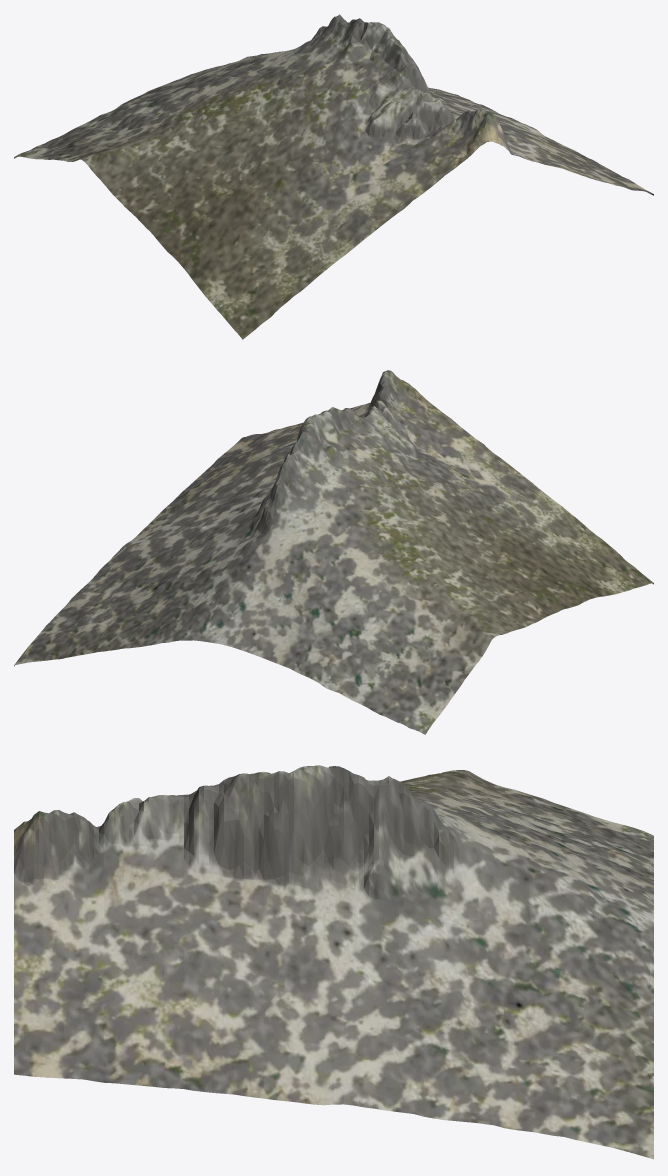
3 renders of one model, top to bottom at view 1: azimuth 30°, elevation 25°; view 2: azimuth 150°, elevation 25°; view 3: azimuth 270°, elevation 25°, orthographic. The views are drawn at different scales.
Size of the model in its own units: 250 by 116 by 241.
1 material, 1 textured.
